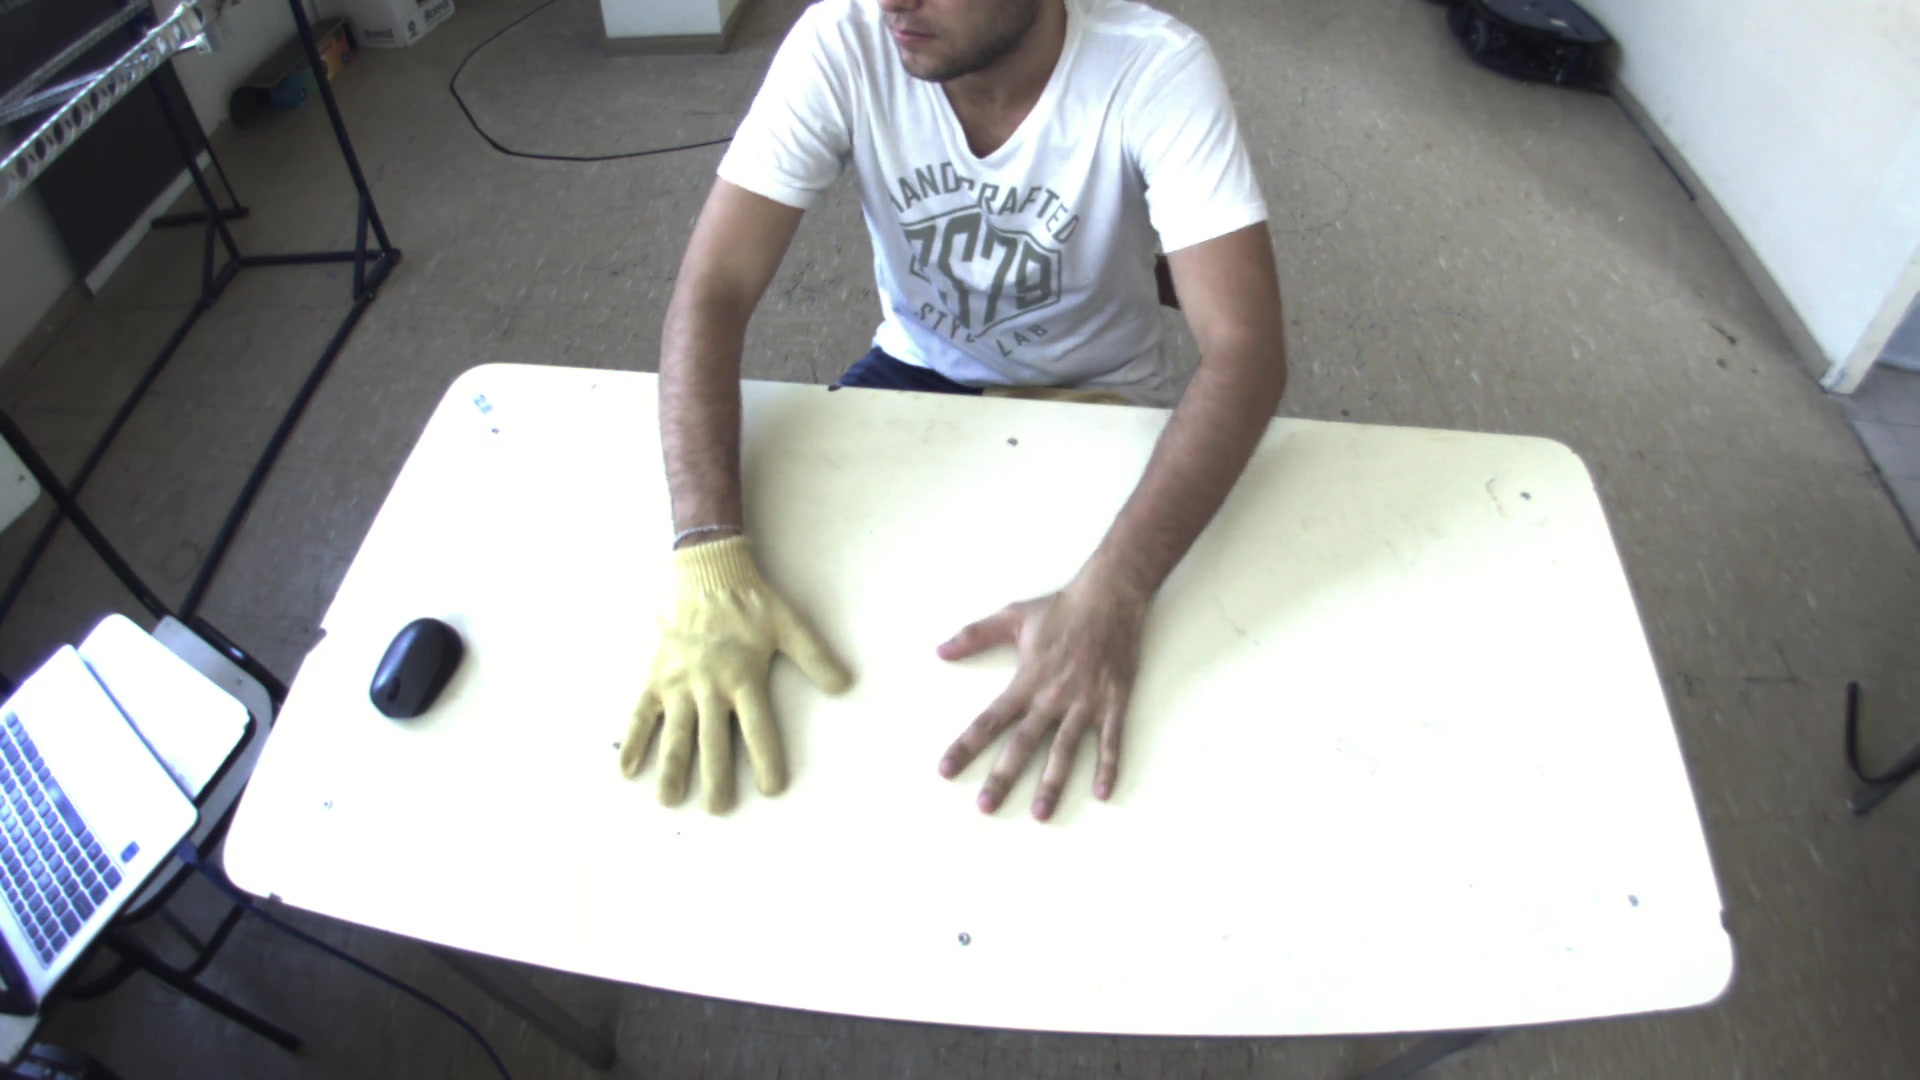hand: (601, 521, 865, 825), (920, 572, 1168, 835)
